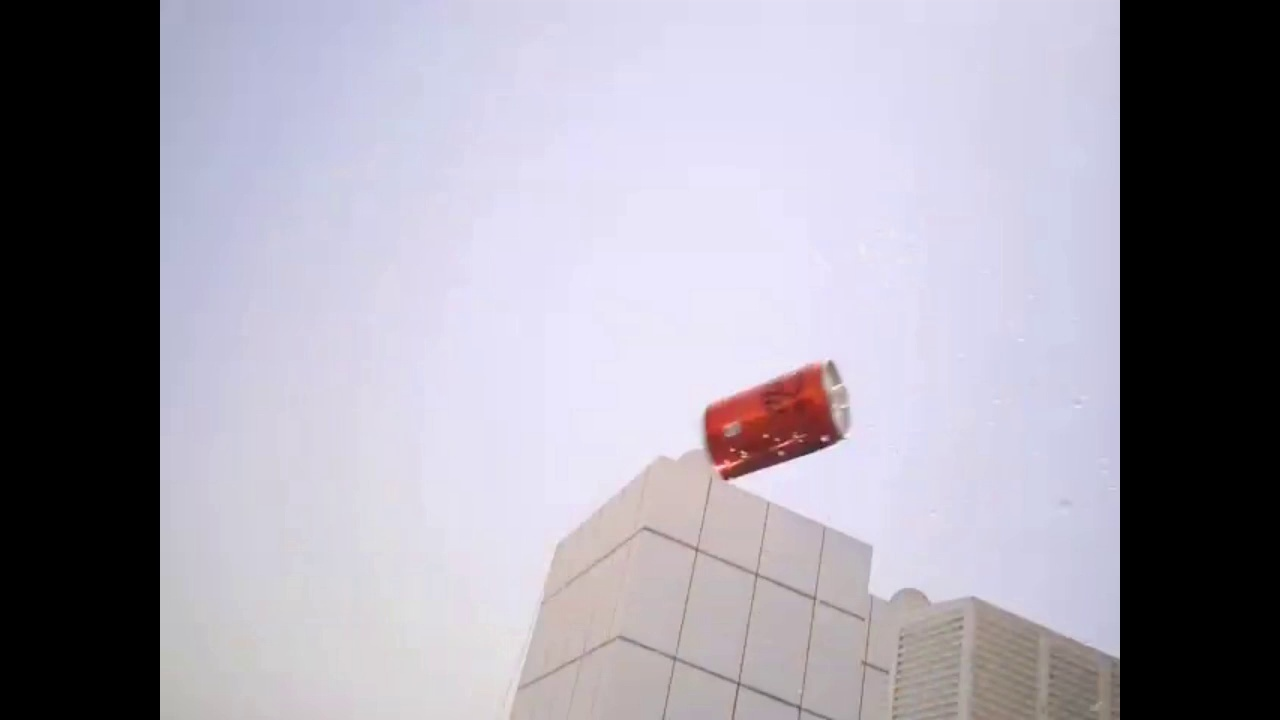debris: (678, 355, 876, 493)
